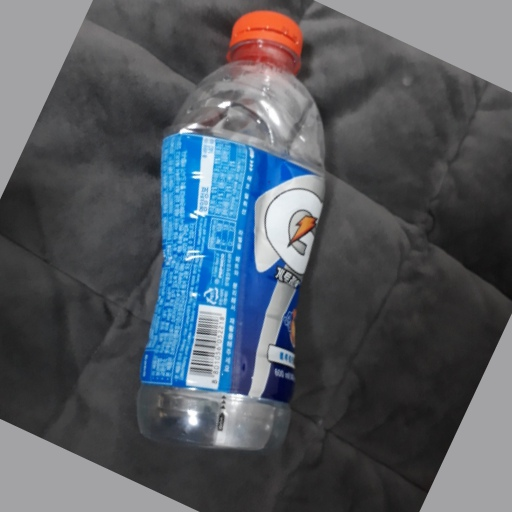Plastic_0: (144, 12, 324, 452)
